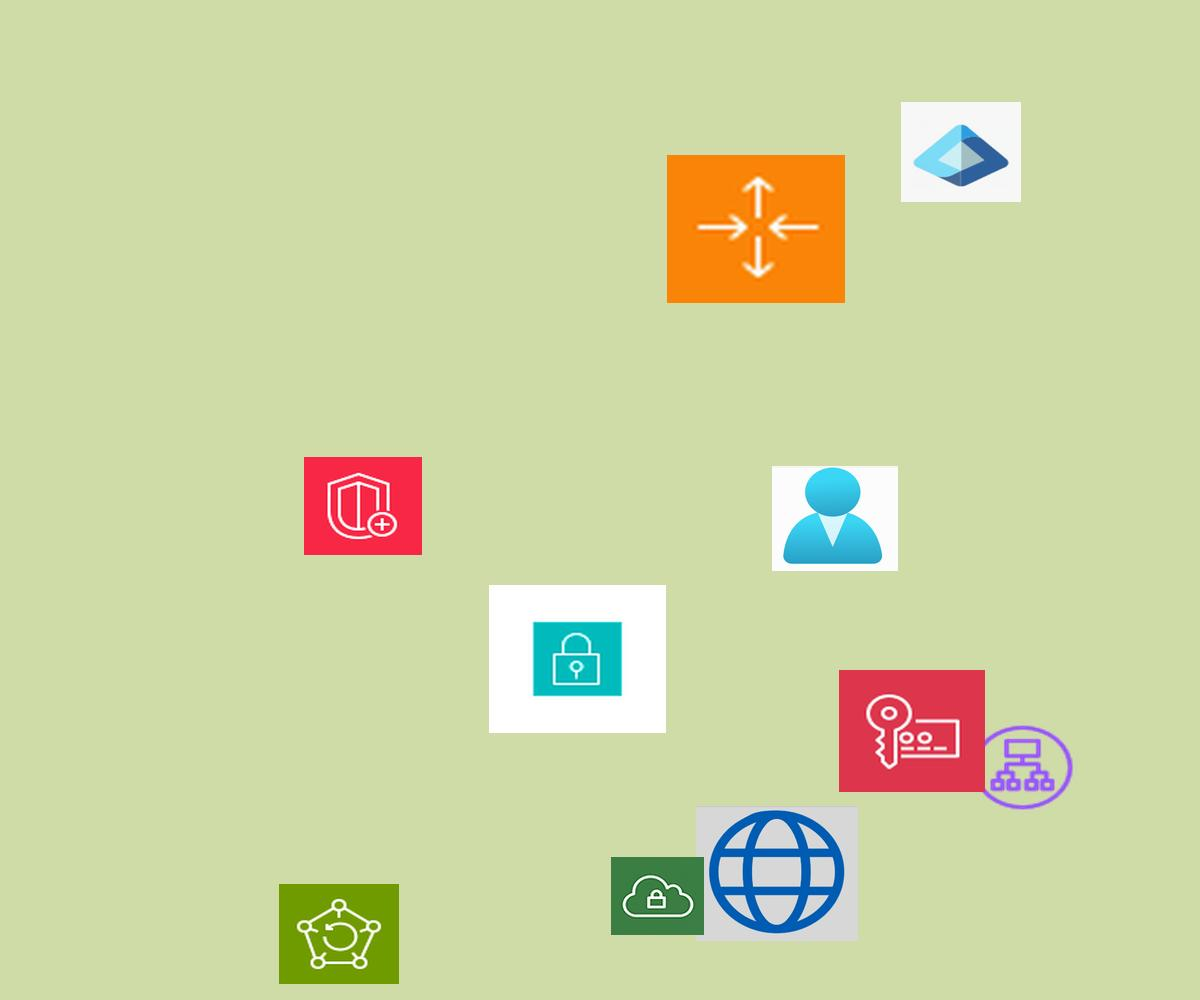AWS-Backup: (279, 884, 399, 984)
AWS-Key-Management-Service: (839, 670, 985, 792)
AWS-Private-subnet: (489, 585, 666, 733)
AWS-Private_vpc: (611, 857, 704, 935)
AWS-Res_Elastic-Load-Balancing_Application-Load-Balancer: (968, 722, 1077, 813)
AWS-Scaling-group: (667, 155, 845, 303)
AWS-Shield: (304, 457, 422, 555)
Azure_http: (696, 806, 858, 941)
Azure_microsoft_entra: (901, 102, 1021, 202)
Azure_users: (772, 466, 898, 571)
